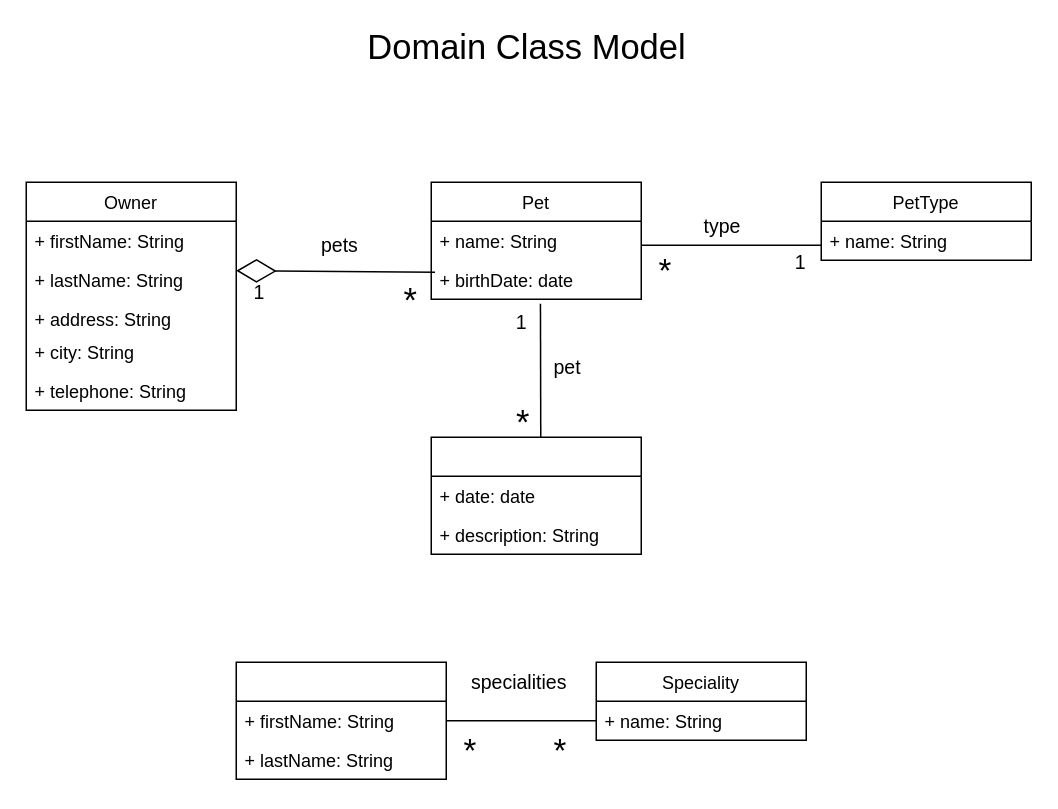
This 1058x809 diagram has some shape labels left out. The shapes that lost their labels are listed below. From the top down, each one's box as (x1, y1, x2, y2) in pixels, then its label:
(430, 436, 641, 554): Visit
(235, 661, 446, 779): Vet
